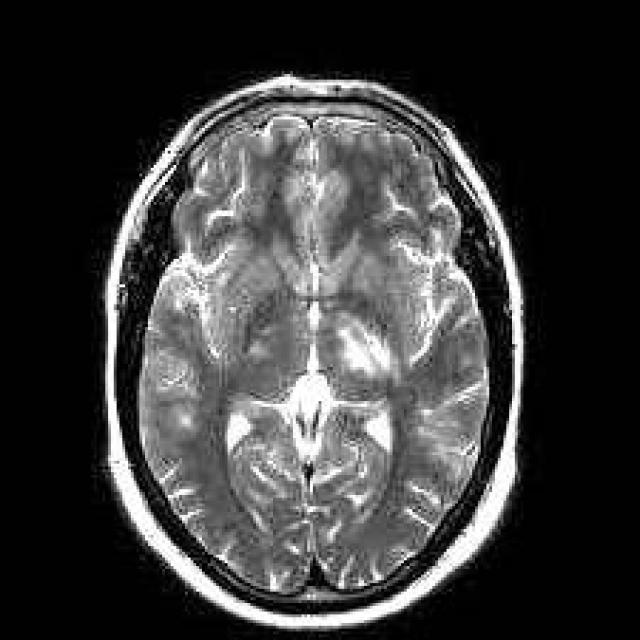notumor: (102, 77, 523, 634)
